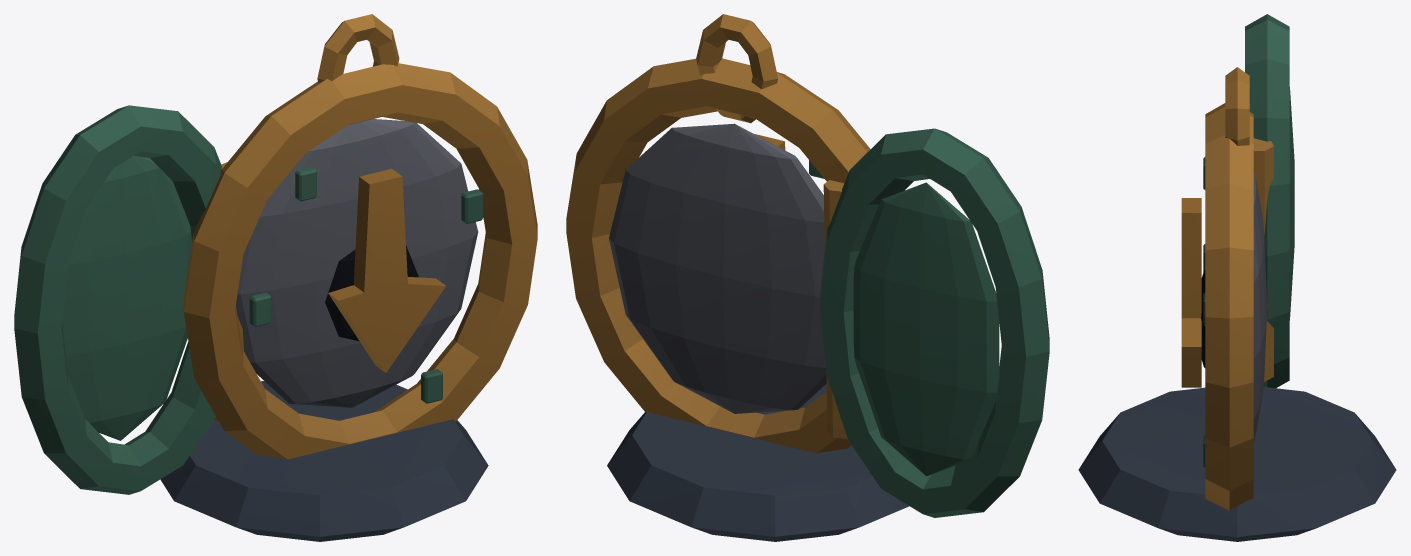
File: grave_compass.fbx
3 renders of one model, left to right at view 1: azimuth 30°, elevation 25°; view 2: azimuth 150°, elevation 25°; view 3: azimuth 270°, elevation 25°, orthographic. The views are drawn at different scales.
Parts seen in each view (by area): view 1: grave_compass; view 2: grave_compass; view 3: grave_compass.
Boxes of the visible parts, left/top/right/bottom form: grave_compass: left=14, top=14, right=537, bottom=541; grave_compass: left=566, top=14, right=1049, bottom=541; grave_compass: left=1078, top=14, right=1396, bottom=541.
Size of the model in its own units: 2.76 by 2.42 by 1.6.
